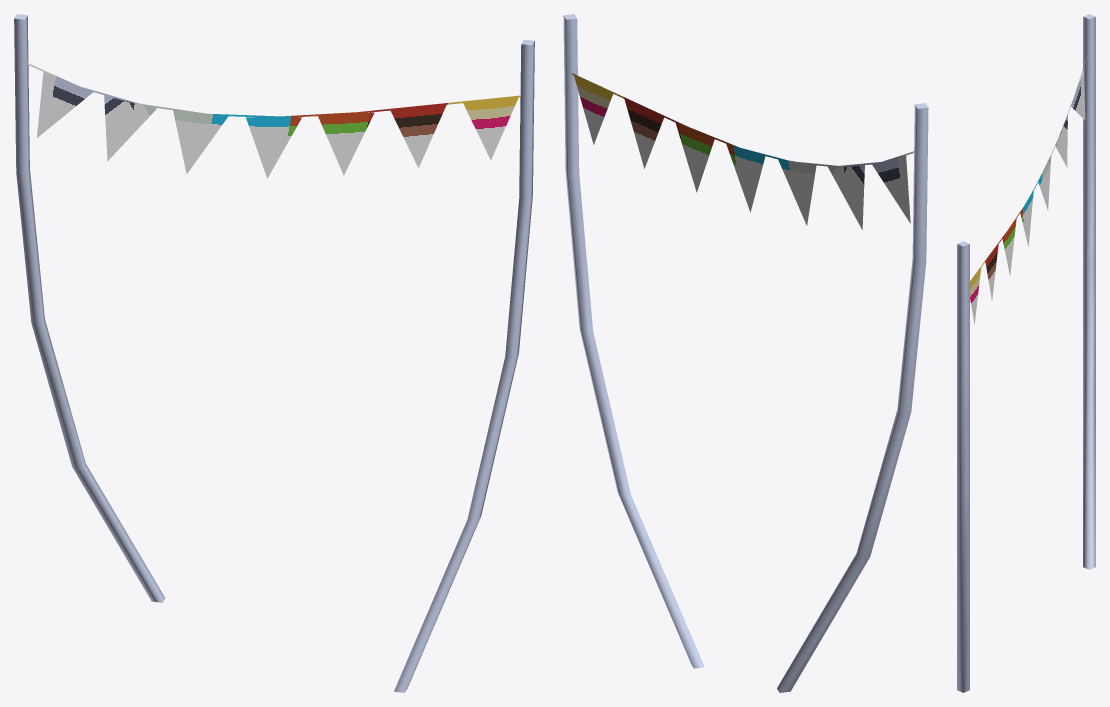
File: Fanion.FBX
3 renders of one model, left to right at view 1: azimuth 30°, elevation 25°; view 2: azimuth 150°, elevation 25°; view 3: azimuth 270°, elevation 25°, orthographic. The views are drawn at different scales.
Visible parts, largest first — view 1: Cylinder005, Plane001; view 2: Cylinder005, Plane001; view 3: Cylinder005, Plane001.
Boxes of the visible parts, <box> form: Cylinder005: <box>14,14,534,692</box>; Plane001: <box>27,63,520,178</box>; Cylinder005: <box>563,14,928,692</box>; Plane001: <box>572,73,913,229</box>; Cylinder005: <box>957,14,1095,692</box>; Plane001: <box>970,56,1087,324</box>.
Size of the model in its own units: 170 by 254 by 57.47.
